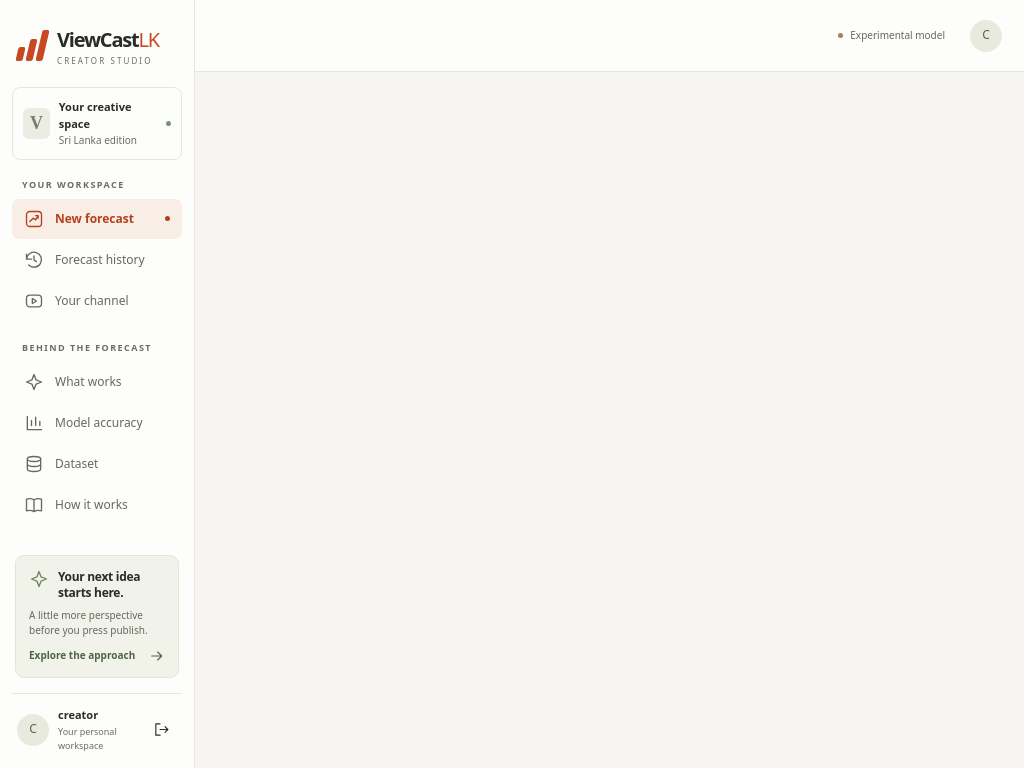
Test: AuthProvider and account navigation › shows a safe logout error and does not redirect when Supabase rejects sign out
Click the button named "Sign out".
click(162, 730)  # box [146,714,177,745]
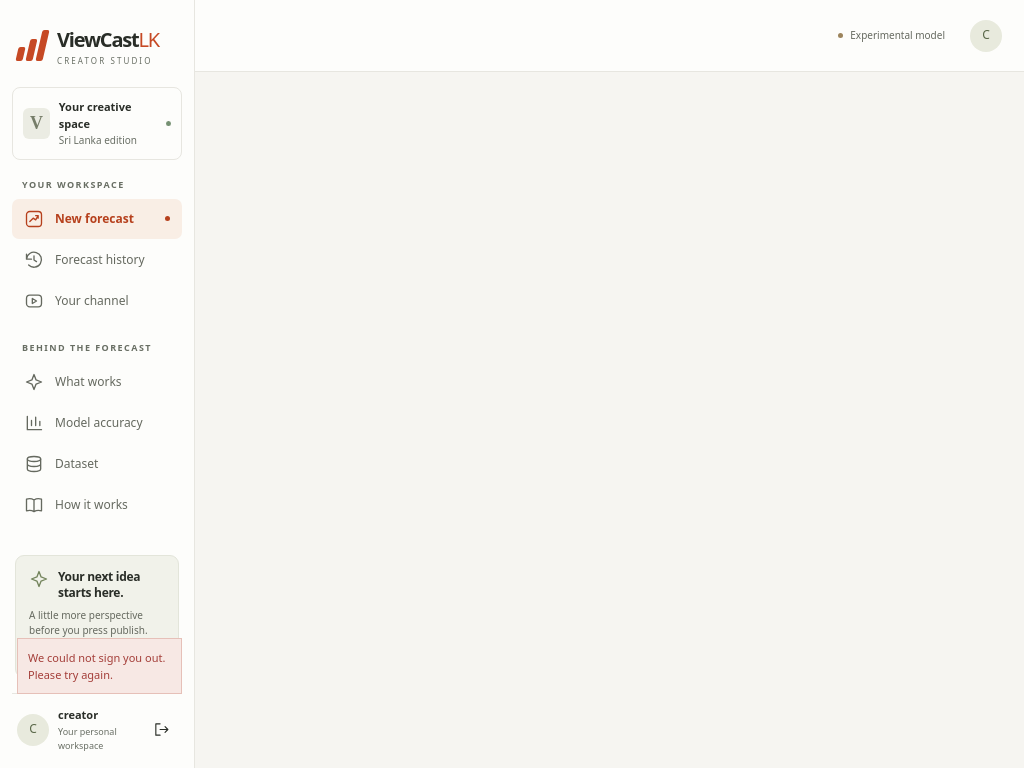
Expected: the text "We could not sign you out. Please try again." is shown, [17,638,182,694]
